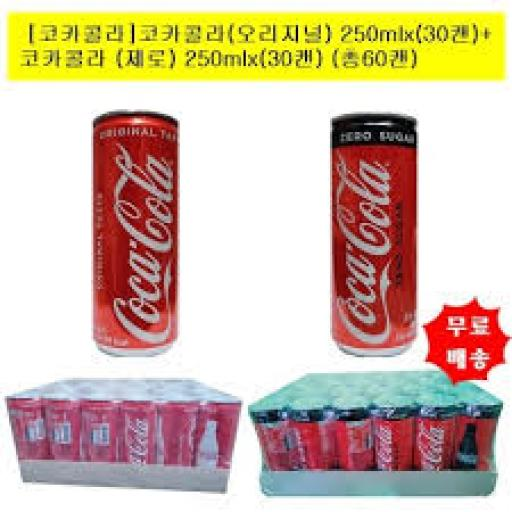Coca: (76, 102, 191, 362)
